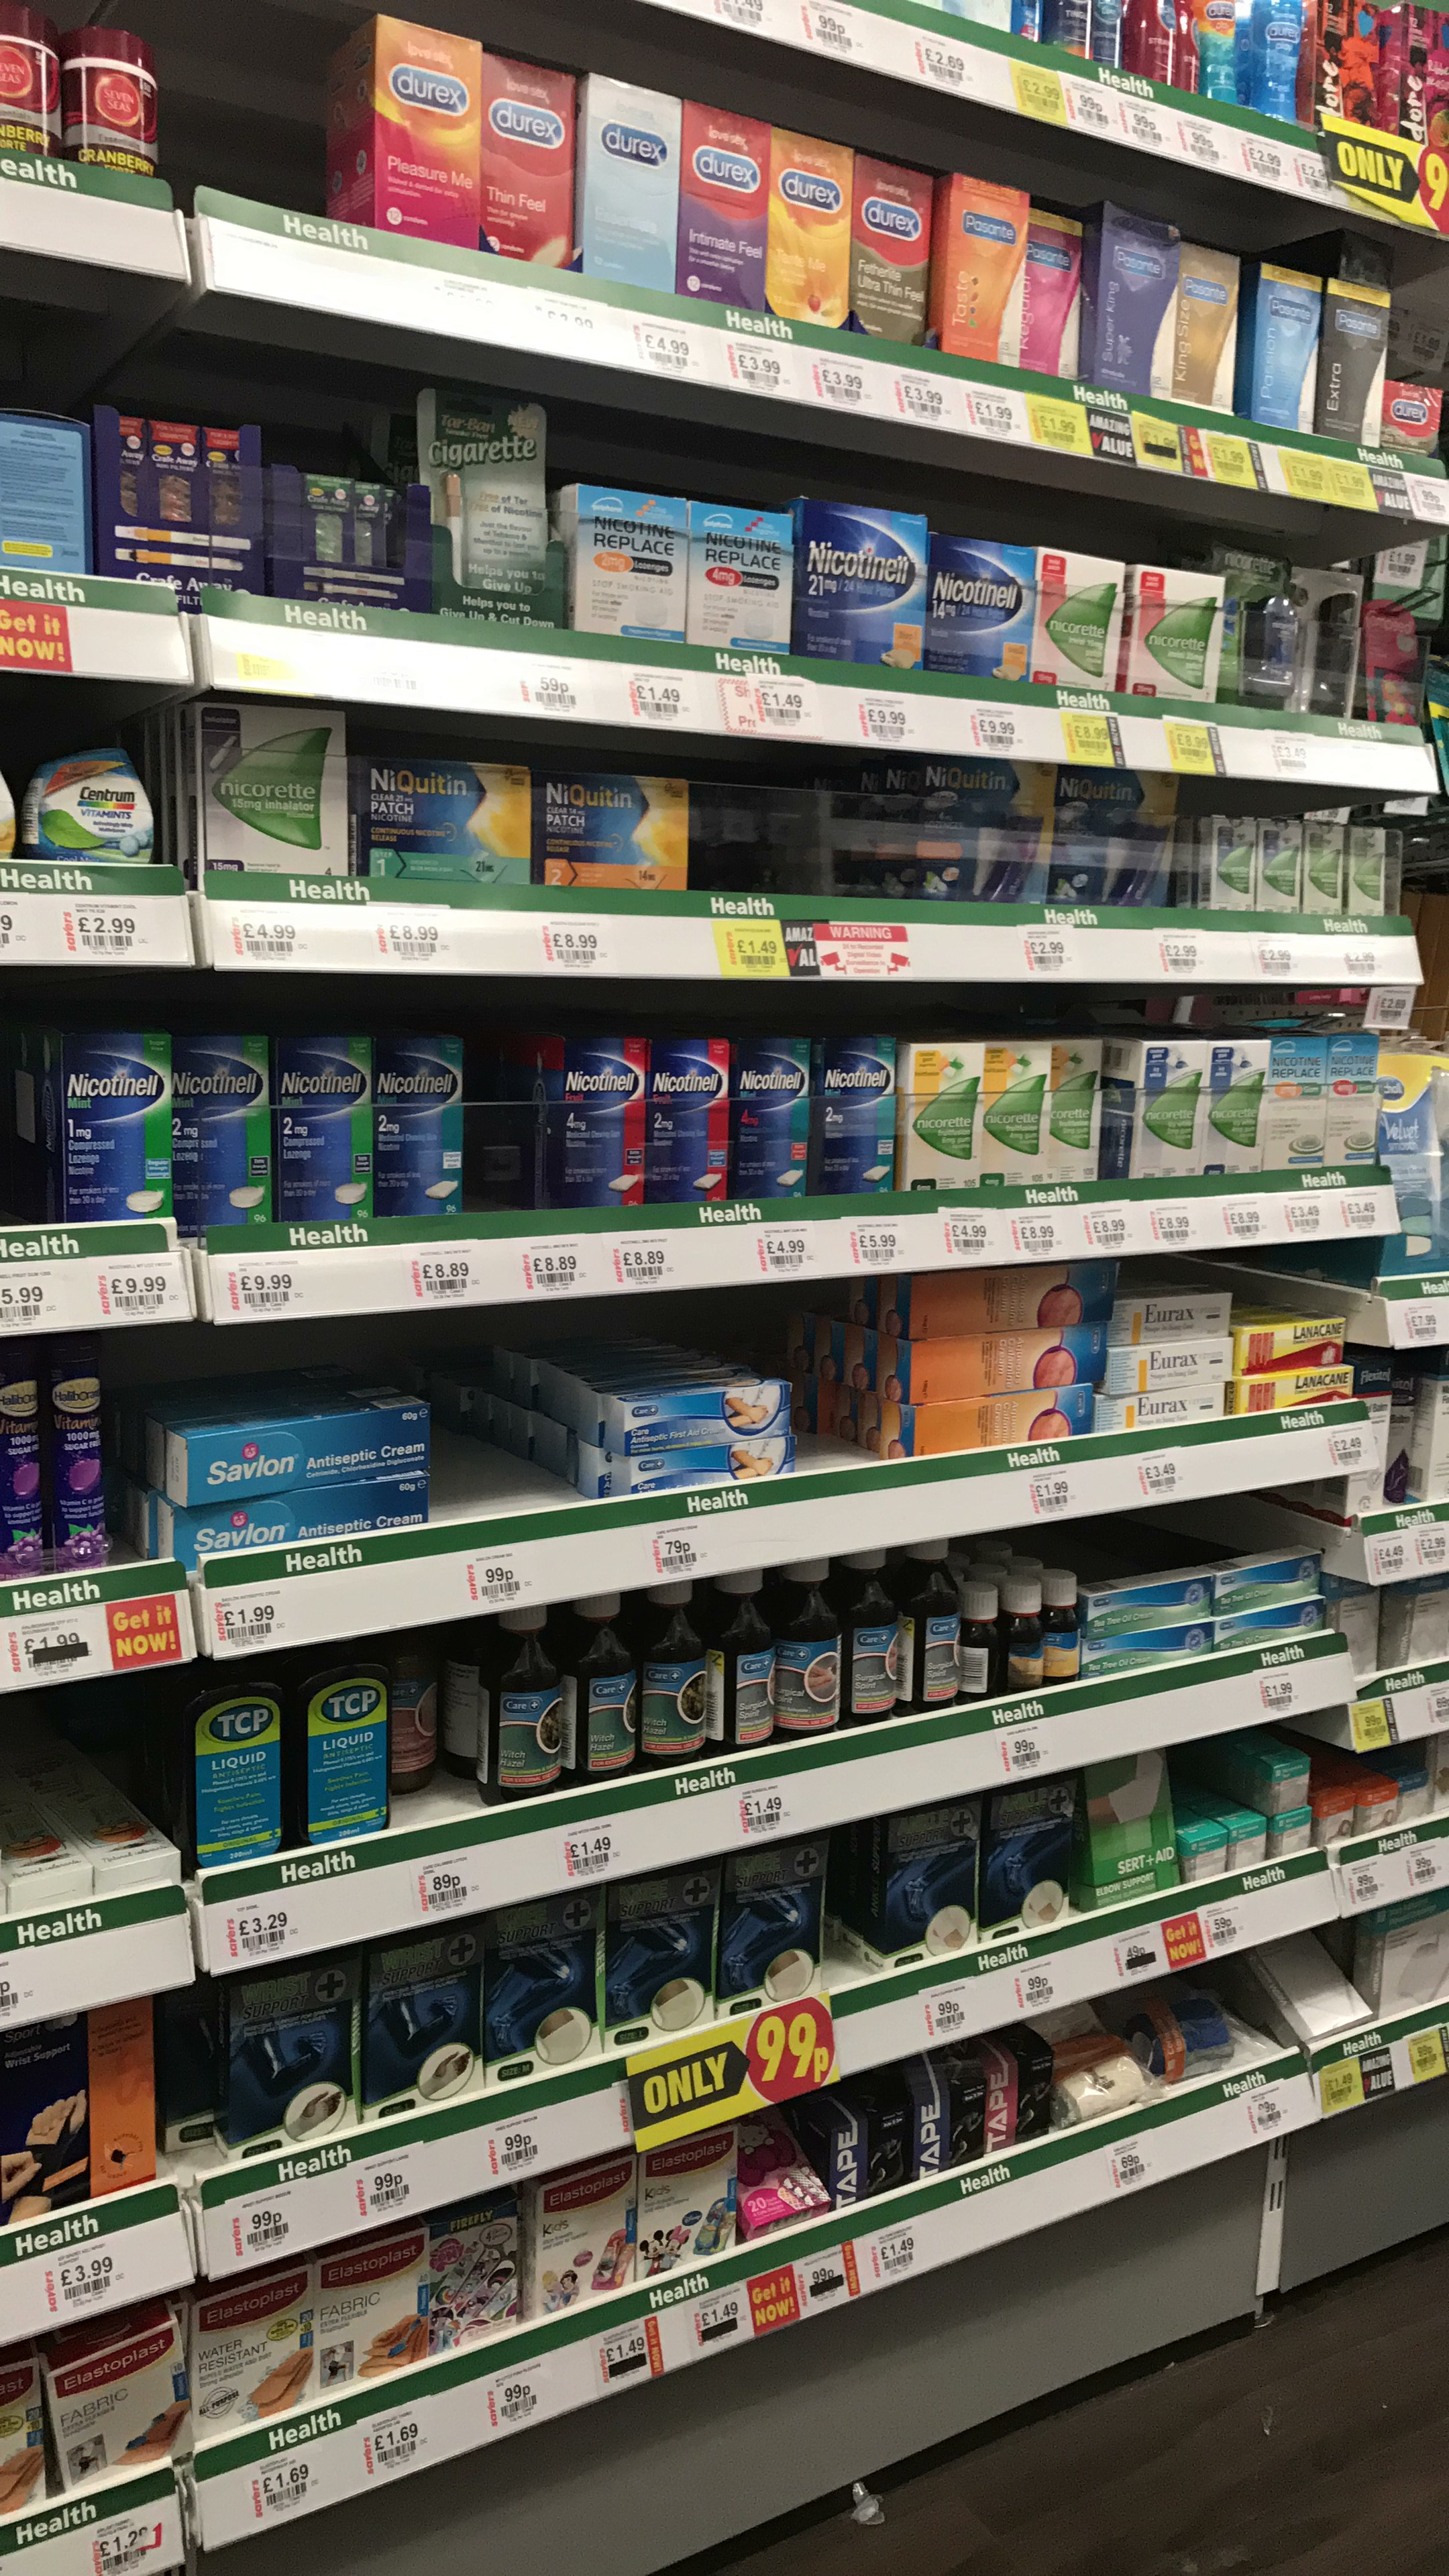Misplacement: (379, 1629, 488, 1829)
Out-of-stock: (159, 11, 359, 239), (432, 1302, 596, 1532), (789, 1288, 906, 1491)
